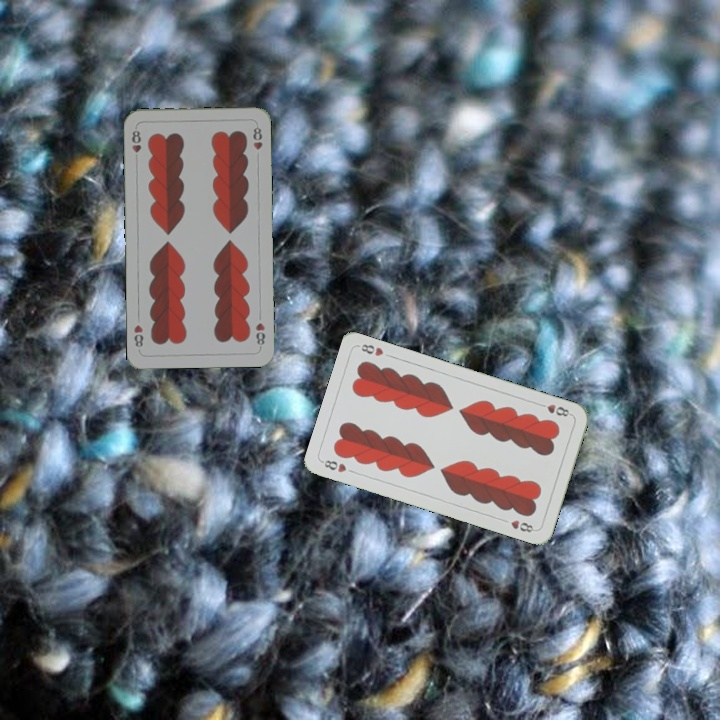H8: (534, 399, 574, 419), (318, 456, 349, 475), (128, 126, 143, 164), (251, 318, 267, 351)
